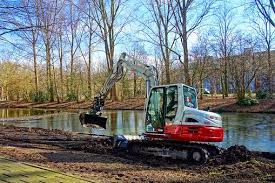excavator: (81, 53, 221, 163)
